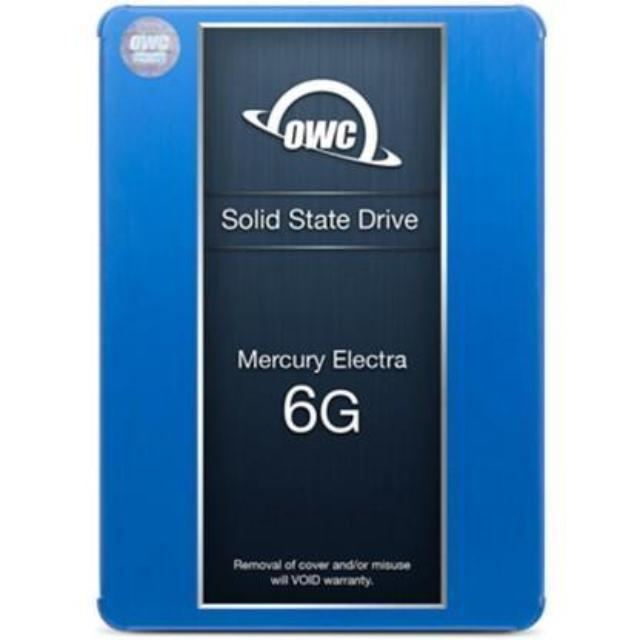DISK: (91, 2, 548, 638)
